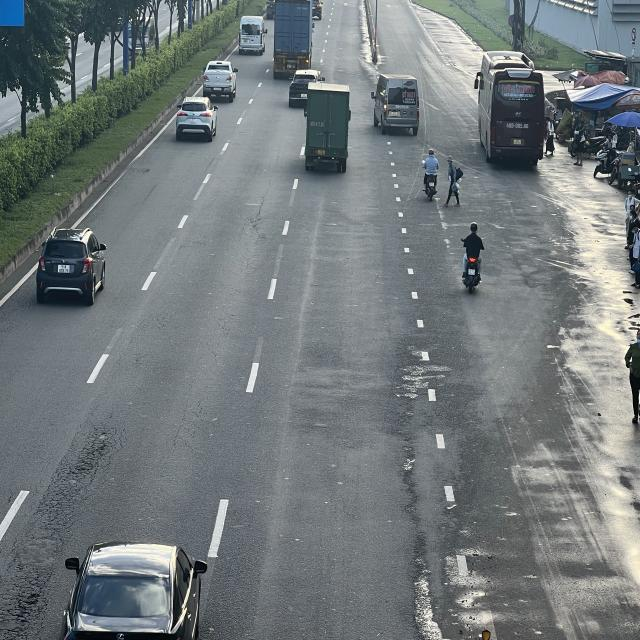car: (36, 228, 106, 307), (178, 98, 219, 141), (203, 57, 238, 100)
coach: (473, 52, 544, 163)
container: (272, 0, 314, 77)
truck: (303, 82, 351, 172)
van: (372, 74, 421, 134), (238, 16, 267, 57)
